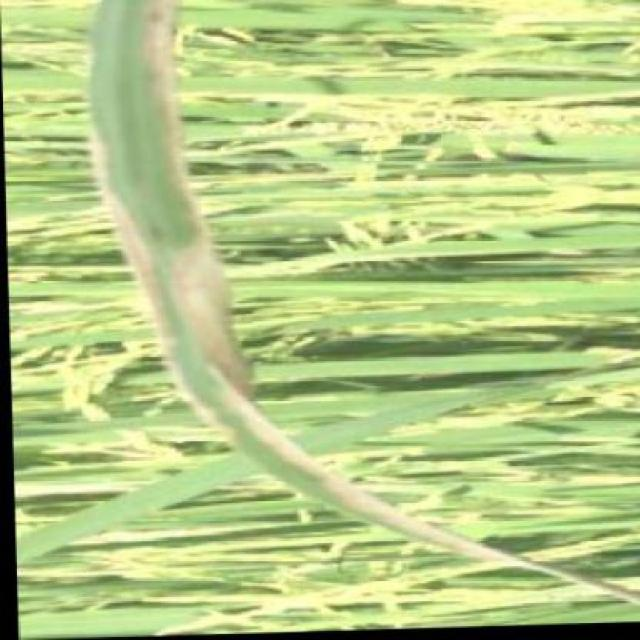Brown_Spot: (82, 0, 209, 362)
